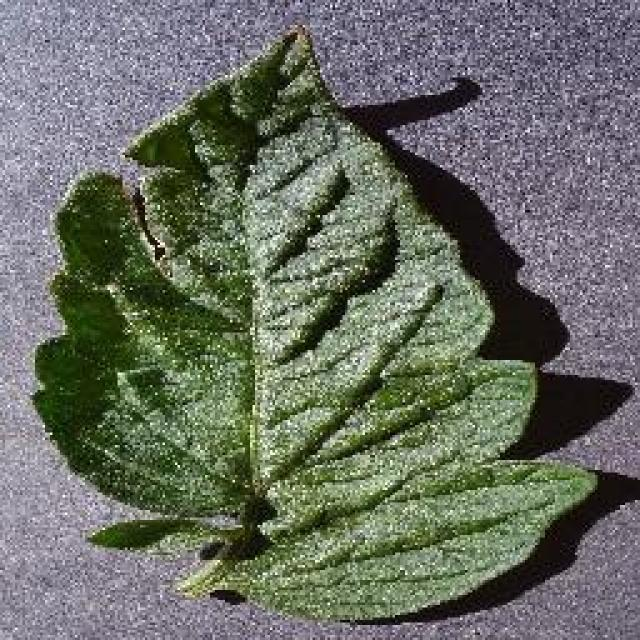Tomato healthy leaf: (41, 30, 601, 612)
